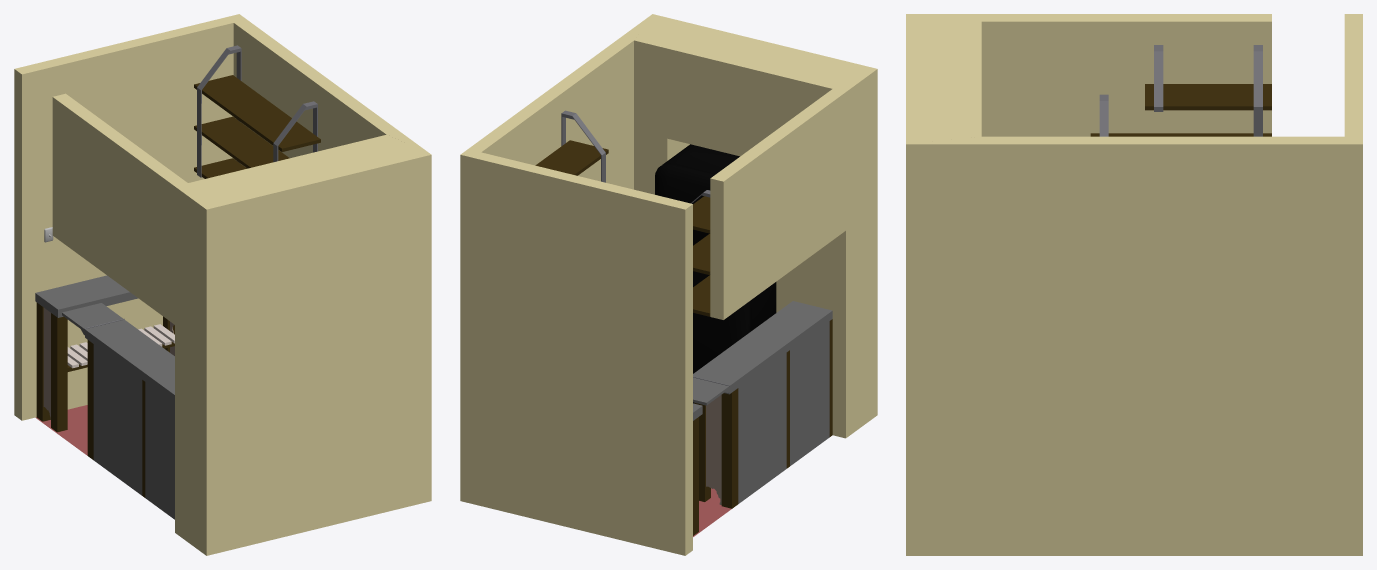
The model's file is Env_Kitchen_1.5x2m.fbx.
3 renders of one model, left to right at view 1: azimuth 30°, elevation 25°; view 2: azimuth 150°, elevation 25°; view 3: azimuth 270°, elevation 25°, orthographic. The views are drawn at different scales.
Visible parts, largest first — view 1: 1.5x2m_Kitchen, Service_Counter, G.Shelf_Even, Long_Counter, 1.5x2m_Floor, Flip-Up_Counter; view 2: 1.5x2m_Kitchen, Service_Counter, Main Door, Fridge, G.Shelf_Even, G.Shelf_Stepped, Freezer_Door, Long_Counter, Flip-Up_Counter, 1.5x2m_Floor; view 3: 1.5x2m_Kitchen, G.Shelf_Stepped.
Part boxes in pixels (x1,y1,x2,y2): 1.5x2m_Kitchen: [14, 14, 431, 555]; Service_Counter: [84, 318, 174, 519]; G.Shelf_Even: [194, 45, 320, 178]; Long_Counter: [35, 275, 174, 432]; 1.5x2m_Floor: [35, 405, 87, 455]; Flip-Up_Counter: [62, 303, 123, 335]; 1.5x2m_Kitchen: [460, 14, 877, 555]; Service_Counter: [693, 301, 832, 508]; Main Door: [693, 271, 750, 403]; Fridge: [662, 144, 776, 331]; G.Shelf_Even: [535, 110, 608, 182]; G.Shelf_Stepped: [690, 190, 710, 316]; Freezer_Door: [655, 163, 714, 245]; Long_Counter: [693, 403, 702, 535]; Flip-Up_Counter: [693, 377, 729, 405]; 1.5x2m_Floor: [693, 488, 731, 536]; 1.5x2m_Kitchen: [906, 14, 1362, 555]; G.Shelf_Stepped: [1090, 45, 1271, 136].
Size of the model in its own units: 170 by 250 by 252.
